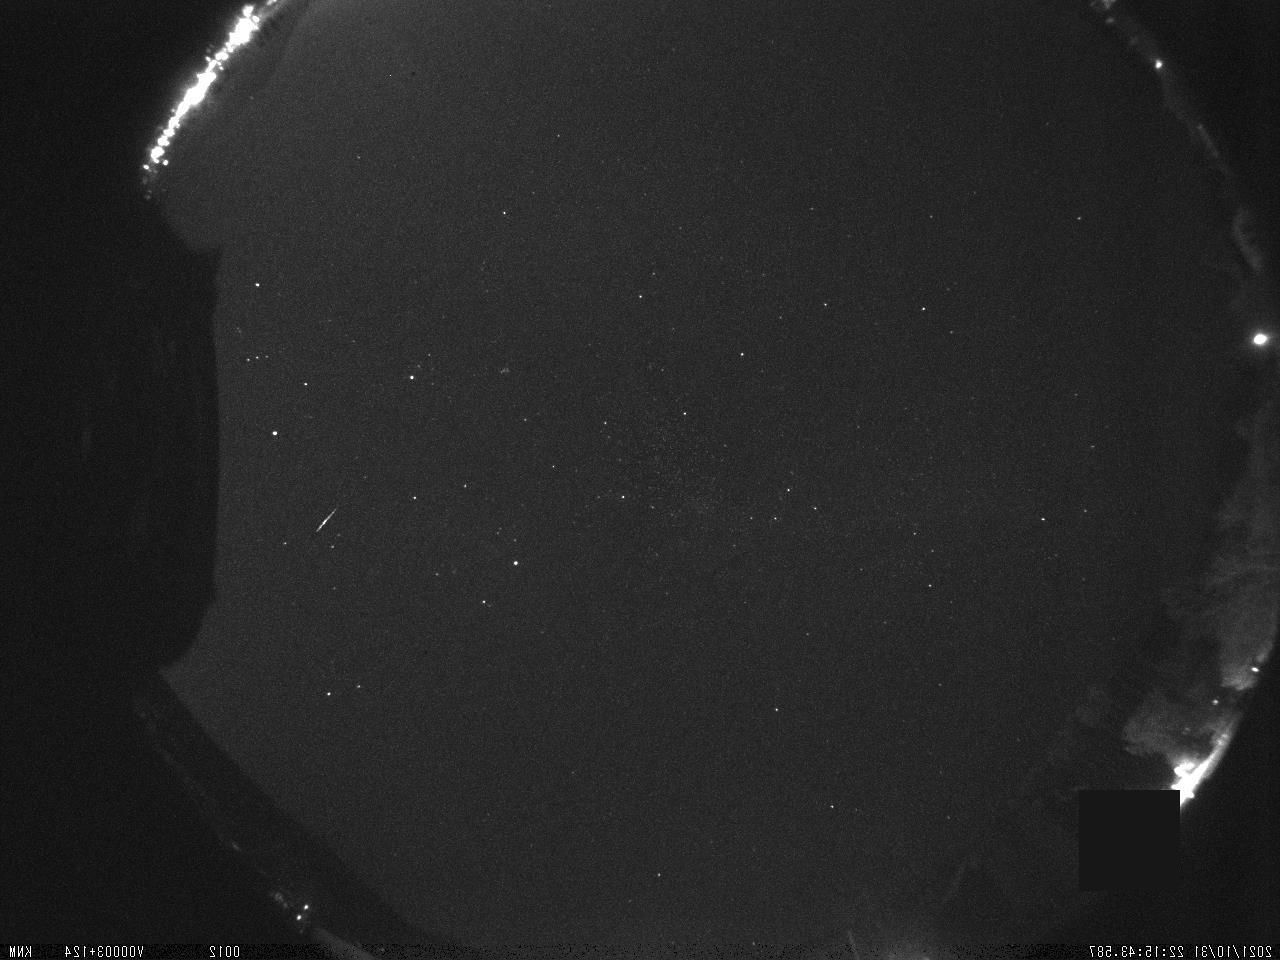meteor: (303, 483, 354, 541)
